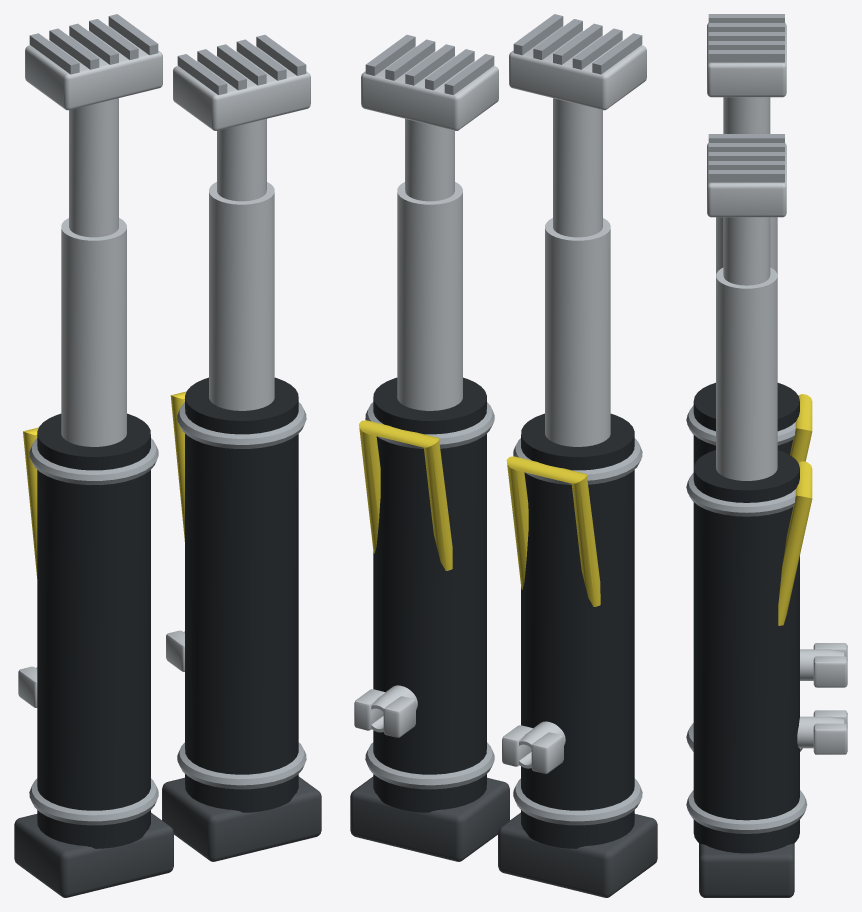
File: hydraulic_ram_pair.glb
3 renders of one model, left to right at view 1: azimuth 30°, elevation 25°; view 2: azimuth 150°, elevation 25°; view 3: azimuth 270°, elevation 25°, orthographic. The views are drawn at different scales.
Visible parts, largest first — view 1: hydraulic_ram_pair; view 2: hydraulic_ram_pair; view 3: hydraulic_ram_pair.
Part boxes in pixels (x1,y1,x2,y2): hydraulic_ram_pair: (14,14,321,897); hydraulic_ram_pair: (350,14,657,897); hydraulic_ram_pair: (686,14,847,897).
Bounding box in the file's own units: 0.2364 × 0.7172 × 0.1356.
